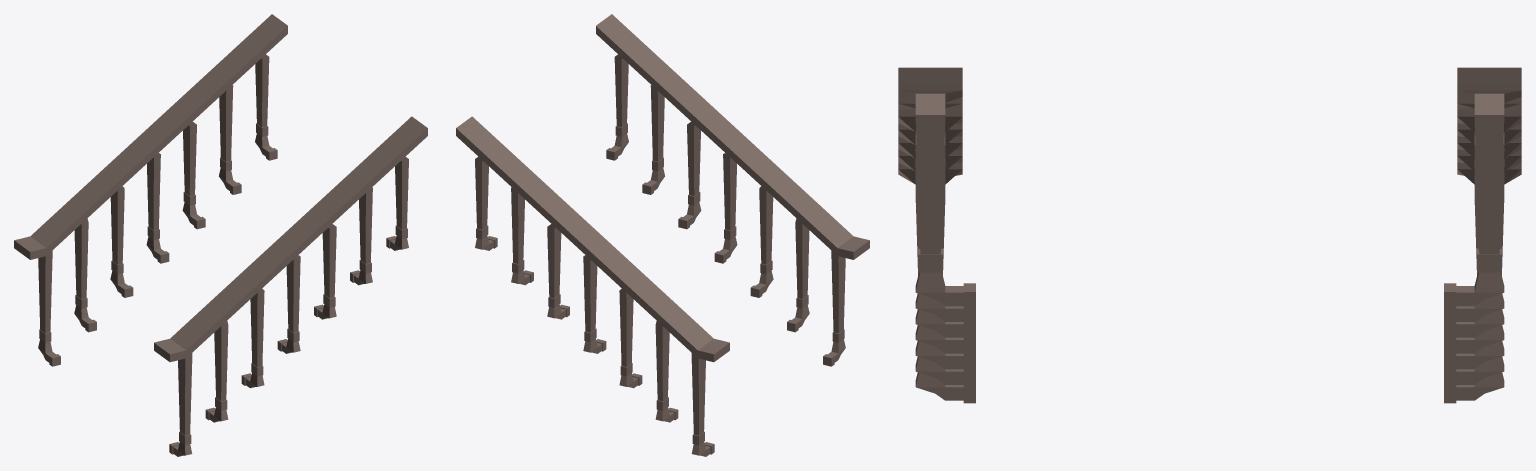
The model's file is HAND_R.fbx.
3 renders of one model, left to right at view 1: azimuth 30°, elevation 25°; view 2: azimuth 150°, elevation 25°; view 3: azimuth 270°, elevation 25°, orthographic. The views are drawn at different scales.
Parts seen in each view (by area): view 1: HAND_R; view 2: HAND_R; view 3: HAND_R.
Boxes of the visible parts, x1,y1,x2,y2 form: HAND_R: (14, 14, 427, 456); HAND_R: (456, 14, 869, 456); HAND_R: (898, 67, 1521, 403).
Size of the model in its own units: 560 by 581 by 586.
